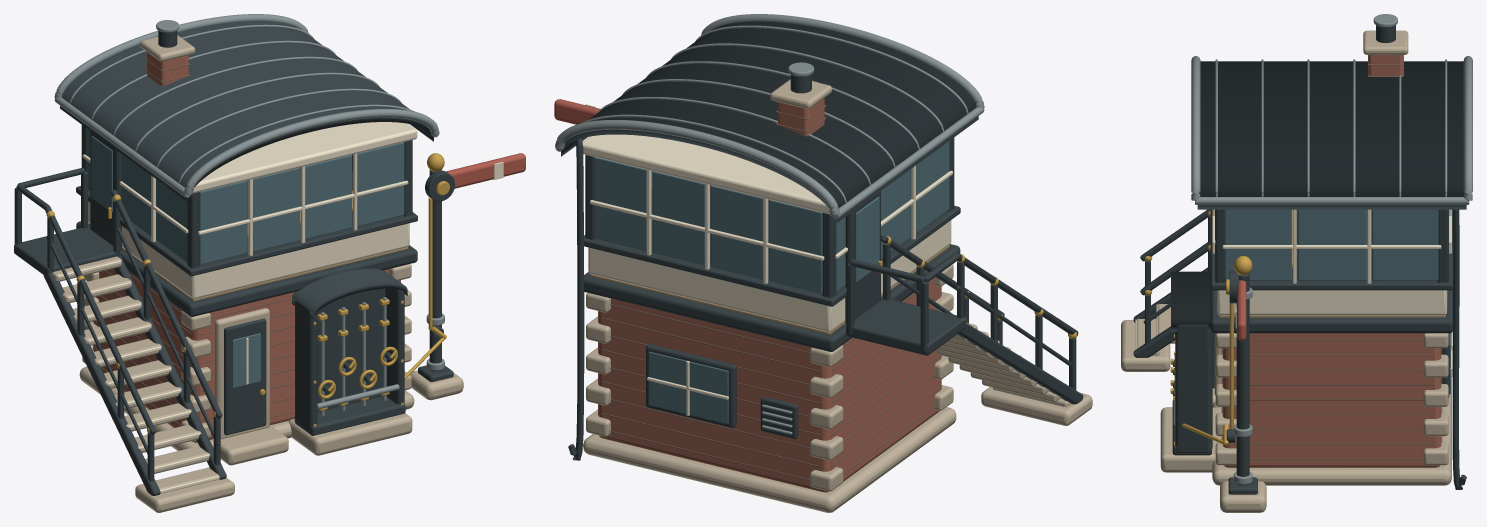
File: mechanical_signal_house.glb
3 renders of one model, left to right at view 1: azimuth 30°, elevation 25°; view 2: azimuth 150°, elevation 25°; view 3: azimuth 270°, elevation 25°, orthographic. The views are drawn at different scales.
Visible parts, largest first — view 1: ShallowCurvedRoof, GroundFloorMasonry, UpperIvoryKickPanel, UpperRoomTopBeam, LinkageCabinetBack, UpperFloorBand, UpperFrontRearPane_-1_0, UpperFrontRearPane_-1_3, UpperFrontRearPane_-1_1, UpperFrontRearPane_-1_2, GroundServiceDoor, WindowSillBand (+51 smaller); view 2: ShallowCurvedRoof, GroundFloorMasonry, UpperIvoryKickPanel, BuildingFoundation, UpperRoomTopBeam, UpperFloorBand, UpperFrontRearPane_1_0, UpperFrontRearPane_1_2, UpperFrontRearPane_1_1, UpperFrontRearPane_1_3, GroundRearWindow_Pane, WindowSillBand (+36 smaller); view 3: ShallowCurvedRoof, GroundFloorMasonry, UpperIvoryKickPanel, UpperSidePane_1_1, BuildingFoundation, UpperSidePane_1_2, CabinetSideWall_1.36, UpperFloorBand, UpperSidePane_1_0, WindowSillBand, CabinetRoundedTop, RoofGutter_1 (+30 smaller).
Boxes of the visible parts, x1,y1,x2,y2 form: ShallowCurvedRoof: (60, 20, 433, 201); GroundFloorMasonry: (93, 268, 400, 442); UpperIvoryKickPanel: (88, 201, 409, 299); UpperRoomTopBeam: (193, 122, 417, 193); LinkageCabinetBack: (317, 288, 385, 412); UpperFloorBand: (76, 221, 417, 316); UpperFrontRearPane_-1_0: (199, 180, 247, 264); UpperFrontRearPane_-1_3: (357, 142, 404, 226); UpperFrontRearPane_-1_1: (253, 167, 299, 251); UpperFrontRearPane_-1_2: (305, 155, 351, 239); GroundServiceDoor: (224, 318, 266, 435); WindowSillBand: (76, 167, 417, 276); ShallowCurvedRoof: (561, 21, 978, 223); GroundFloorMasonry: (598, 277, 941, 492); UpperIvoryKickPanel: (588, 220, 951, 332); BuildingFoundation: (583, 407, 956, 512); UpperRoomTopBeam: (582, 134, 829, 214); UpperFloorBand: (584, 244, 960, 351); UpperFrontRearPane_1_0: (769, 200, 822, 293); UpperFrontRearPane_1_2: (652, 171, 704, 265); UpperFrontRearPane_1_1: (711, 185, 763, 279); UpperFrontRearPane_1_3: (594, 157, 646, 251); GroundRearWindow_Pane: (648, 351, 728, 423); WindowSillBand: (584, 188, 960, 306); ShallowCurvedRoof: (1197, 61, 1466, 209); GroundFloorMasonry: (1222, 333, 1441, 467); UpperIvoryKickPanel: (1217, 290, 1447, 315); UpperSidePane_1_1: (1297, 209, 1366, 280); BuildingFoundation: (1212, 377, 1451, 485); UpperSidePane_1_2: (1372, 209, 1438, 280); CabinetSideWall_1.36: (1175, 324, 1210, 452); UpperFloorBand: (1210, 210, 1453, 333); UpperSidePane_1_0: (1225, 209, 1291, 280); WindowSillBand: (1211, 209, 1453, 290); CabinetRoundedTop: (1171, 271, 1210, 331); RoofGutter_1: (1195, 197, 1469, 204).
Bounding box in the file's own units: 7.21 × 5.95 × 4.91.
